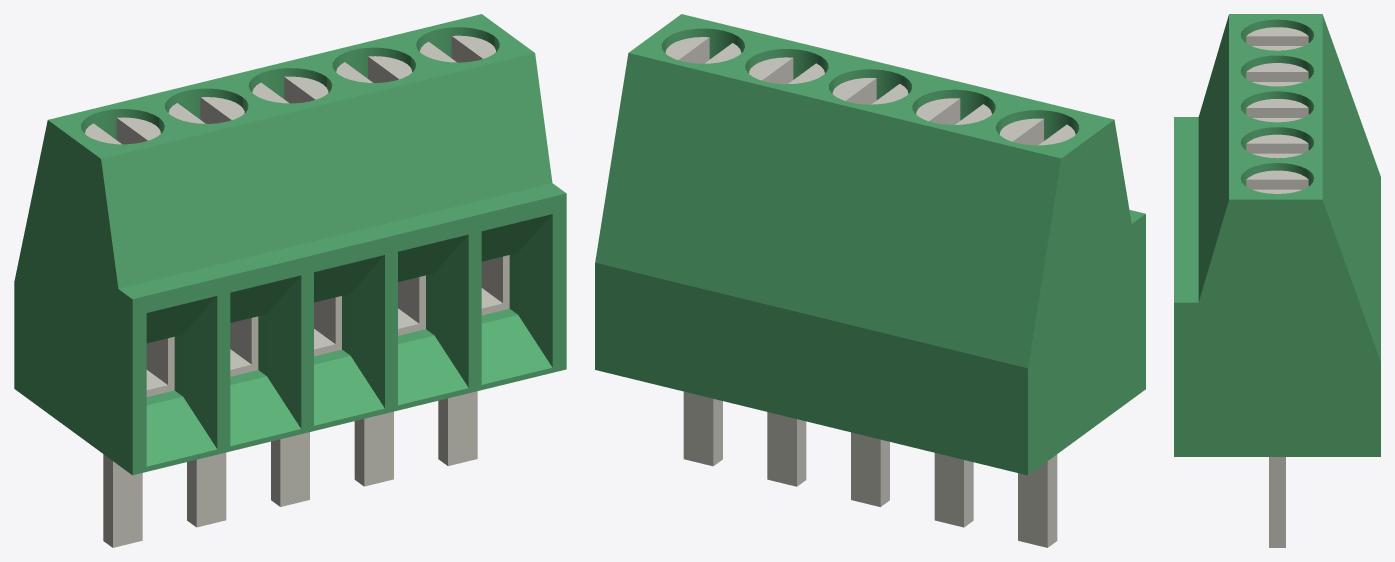
Rendered from kc-terminalblock_phoenix_mpt-0_5-5-2.54_1x05_p2.54mm_horizontal.glb.
3 views of the same model, side by side, from view 1: azimuth 30°, elevation 25°; view 2: azimuth 150°, elevation 25°; view 3: azimuth 270°, elevation 25° (orthographic). The views are drawn at different scales.
Visible parts, largest first — view 1: 0.08333333333333333_0.4166666666666667_0.16666666666666666_0, 0.6666666666666666_0.6666666666666666_0.5833333333333334_0.8; view 2: 0.08333333333333333_0.4166666666666667_0.16666666666666666_0, 0.6666666666666666_0.6666666666666666_0.5833333333333334_0.8; view 3: 0.08333333333333333_0.4166666666666667_0.16666666666666666_0, 0.6666666666666666_0.6666666666666666_0.5833333333333334_0.8.
Part boxes in pixels (<box>): 0.08333333333333333_0.4166666666666667_0.16666666666666666_0: <box>14,14,566,475</box>; 0.6666666666666666_0.6666666666666666_0.5833333333333334_0.8: <box>85,35,509,547</box>; 0.08333333333333333_0.4166666666666667_0.16666666666666666_0: <box>595,14,1145,475</box>; 0.6666666666666666_0.6666666666666666_0.5833333333333334_0.8: <box>665,37,1075,547</box>; 0.08333333333333333_0.4166666666666667_0.16666666666666666_0: <box>1174,14,1380,456</box>; 0.6666666666666666_0.6666666666666666_0.5833333333333334_0.8: <box>1246,27,1308,547</box>.
Bounding box in the file's own units: 1.32 × 1.2 × 0.62.
